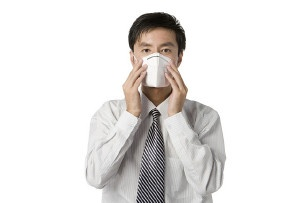Mask: (132, 39, 179, 87)
